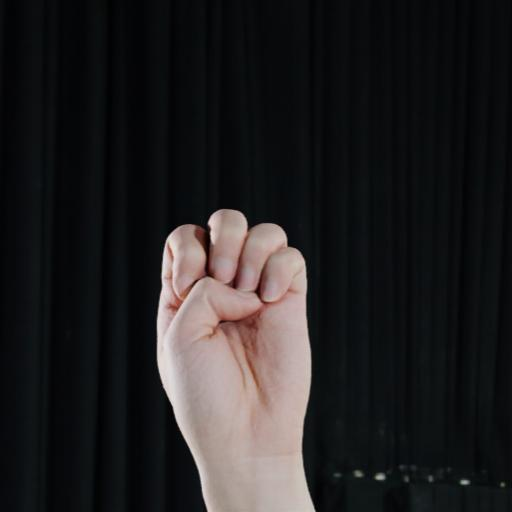E: (122, 181, 376, 448)
